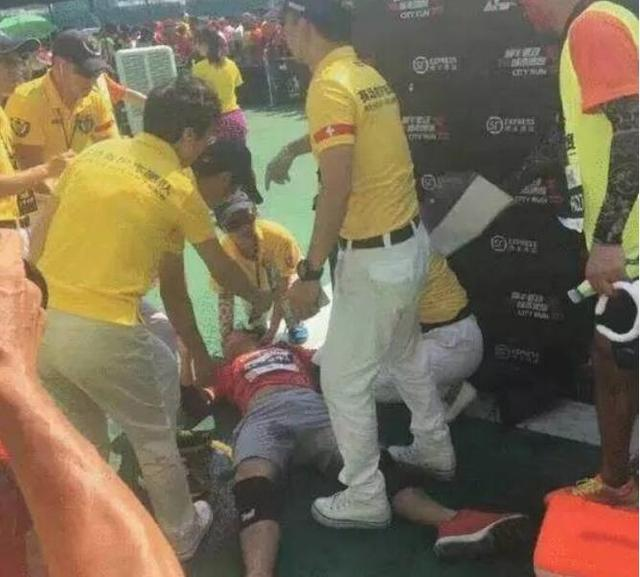10+: (4, 16, 640, 511)
down: (179, 316, 504, 577)
